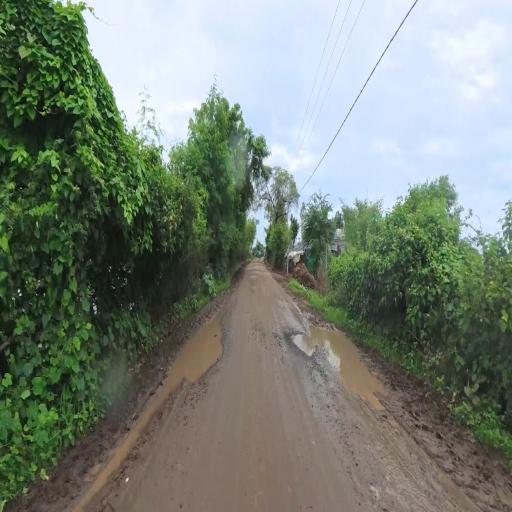edge_damage: (277, 295, 318, 380)
